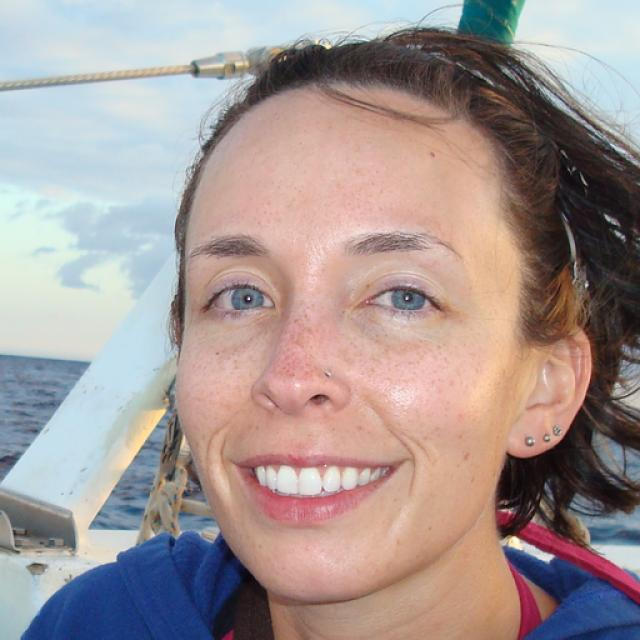Pigmentation: (332, 325, 435, 390), (257, 286, 324, 384)
